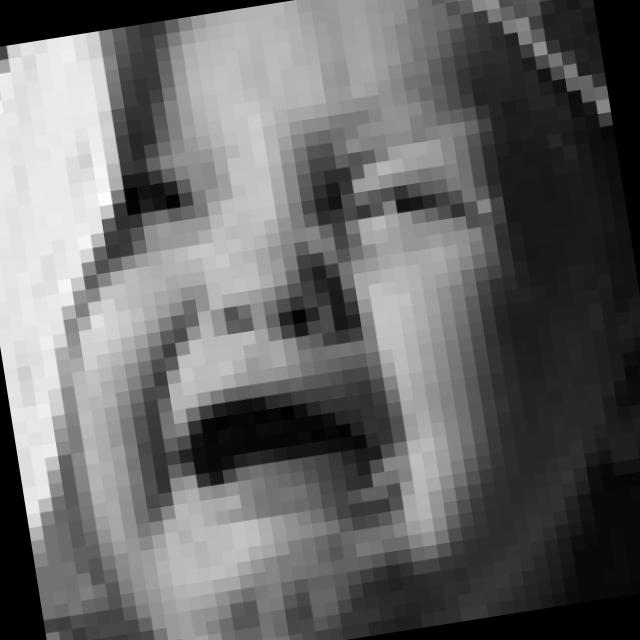sad: (61, 63, 580, 592)
